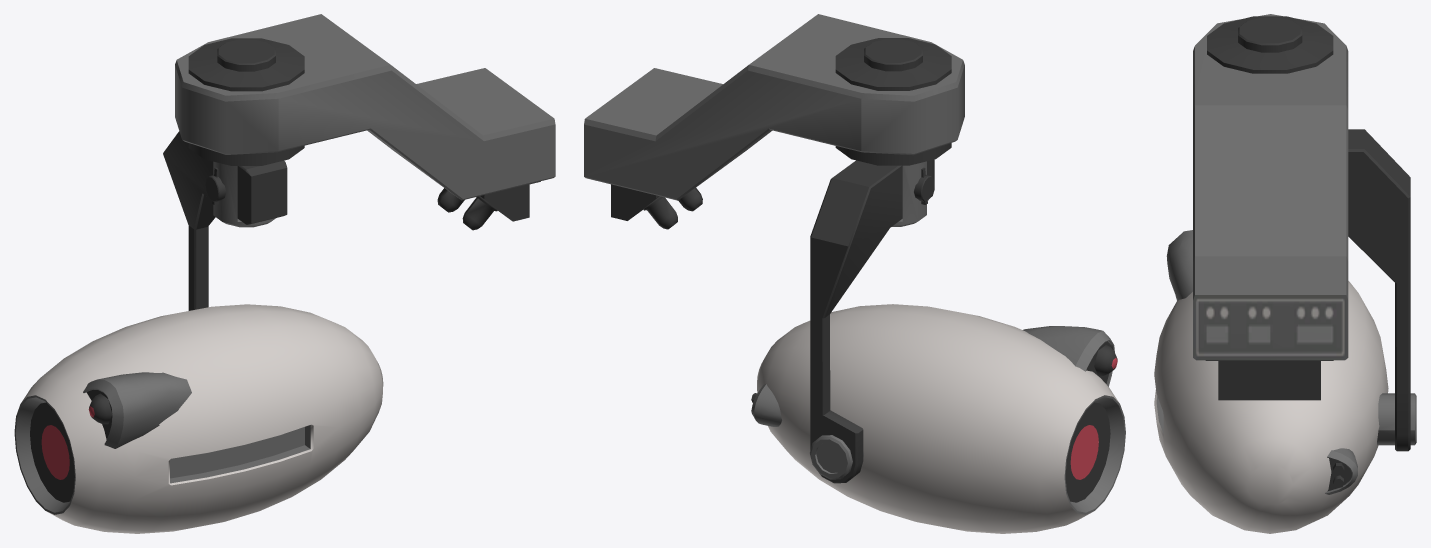
File: security_camera.obj
3 renders of one model, left to right at view 1: azimuth 30°, elevation 25°; view 2: azimuth 150°, elevation 25°; view 3: azimuth 270°, elevation 25°, orthographic. The views are drawn at different scales.
Parts seen in each view (by area): view 1: security_camera.mdl/Security_Camera_reference.smd; view 2: security_camera.mdl/Security_Camera_reference.smd; view 3: security_camera.mdl/Security_Camera_reference.smd.
Boxes of the visible parts, x1,y1,x2,y2 form: security_camera.mdl/Security_Camera_reference.smd: (14,14,555,533); security_camera.mdl/Security_Camera_reference.smd: (584,14,1125,533); security_camera.mdl/Security_Camera_reference.smd: (1154,14,1416,533).
Size of the model in its own units: 0.6482 by 0.5904 by 0.2841.
